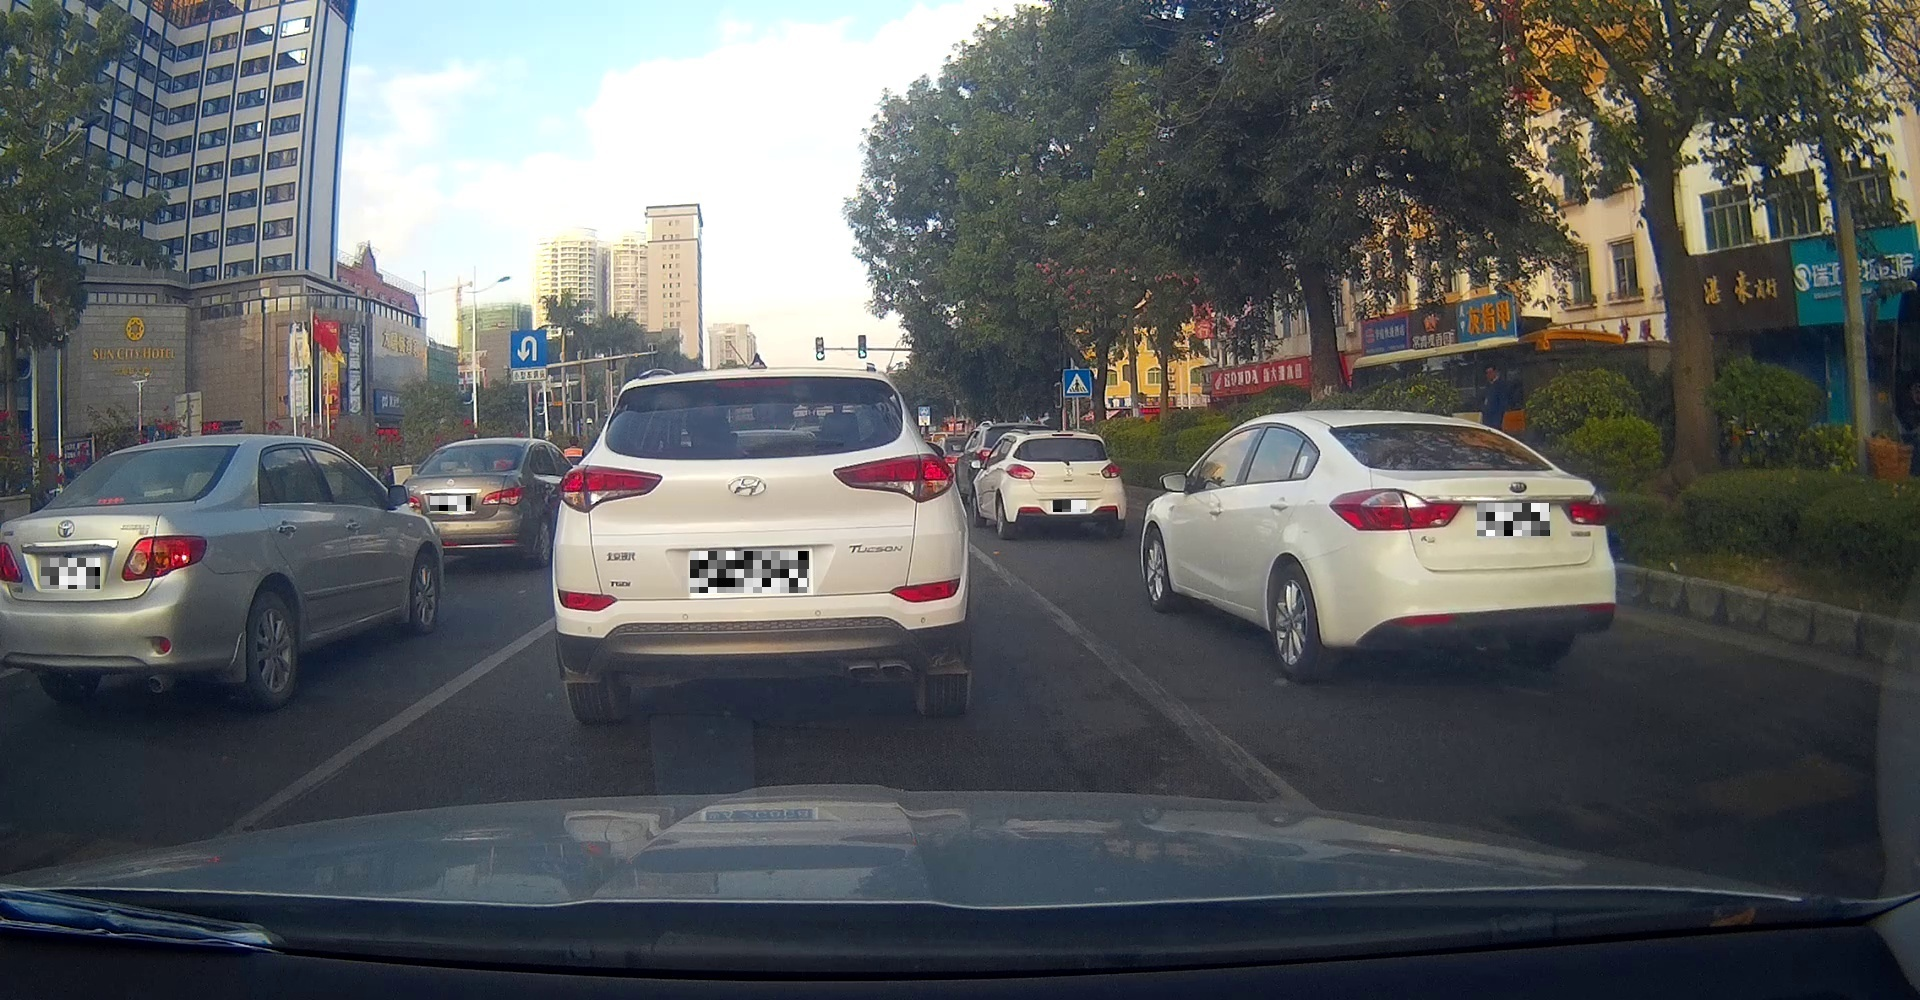L_light: (1327, 486, 1464, 530), (557, 464, 663, 513), (0, 541, 23, 582), (1004, 463, 1035, 480)
R_light: (833, 453, 955, 503), (119, 536, 210, 581), (1564, 500, 1610, 525), (1100, 462, 1121, 478)
T_light: (715, 379, 789, 388), (1451, 462, 1495, 470), (99, 497, 124, 505), (1051, 433, 1073, 437)
day-no: (551, 360, 970, 725), (1327, 409, 1617, 665), (0, 435, 208, 702), (1002, 431, 1128, 541)
plate_1: (41, 558, 100, 589)
plate_2: (430, 496, 471, 511)
plate_3: (690, 551, 809, 593)
plate_4: (1053, 500, 1086, 511)
plate_5: (1477, 503, 1550, 536)
